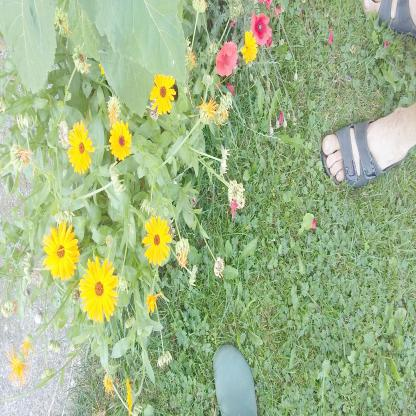marigold: (79, 256, 119, 322), (42, 219, 80, 282), (143, 214, 171, 265), (68, 124, 95, 176), (149, 71, 176, 116), (108, 119, 132, 161), (240, 30, 258, 64)
